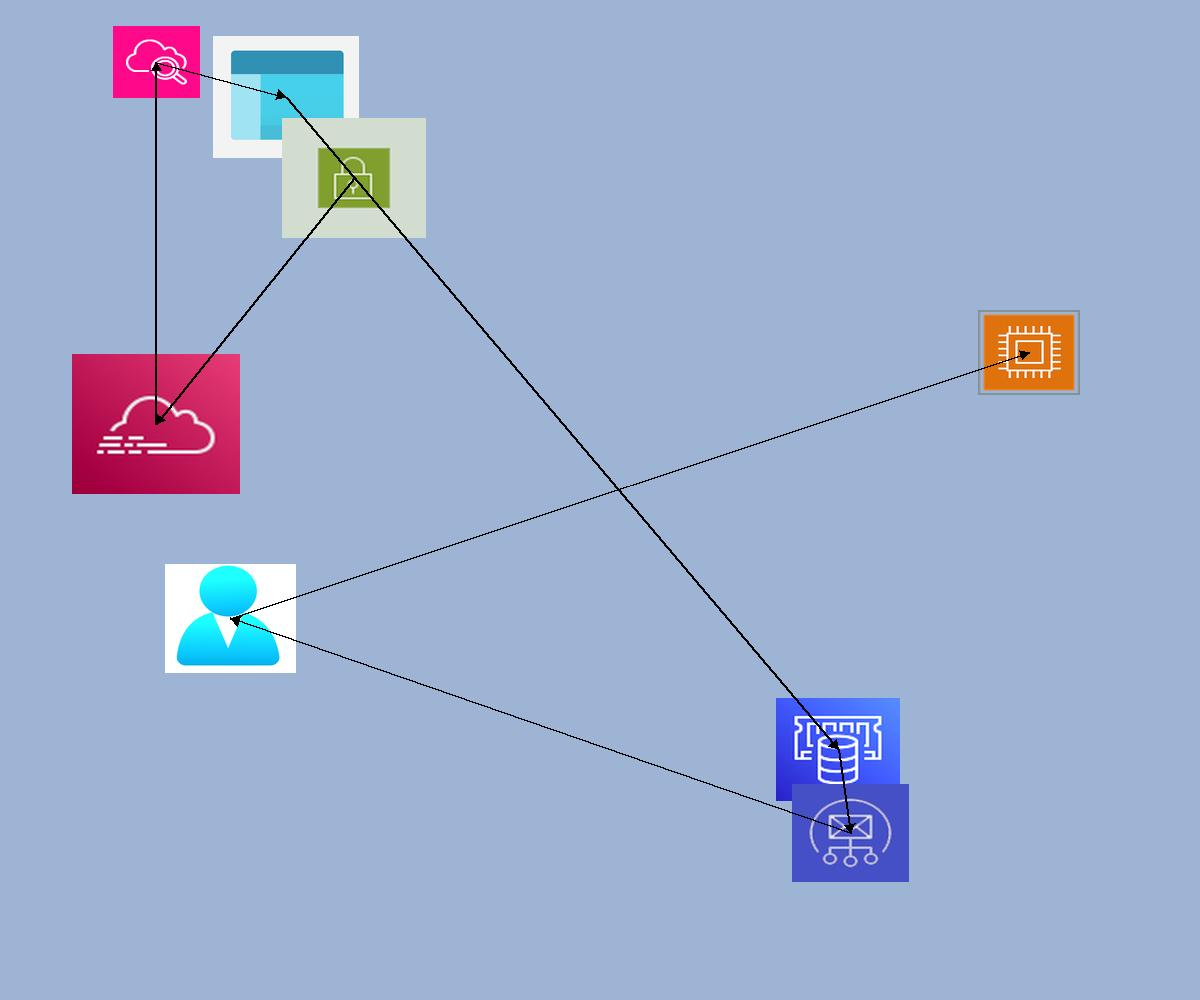AWS-Category_Compute: (978, 310, 1080, 395)
AWS-CloudTrail: (72, 354, 240, 494)
AWS-CloudWatch: (113, 26, 200, 98)
AWS-ElastiCache: (776, 698, 900, 801)
AWS-Public-subnet: (282, 118, 426, 238)
AWS-Simple-Email-Service: (792, 784, 909, 882)
Azure_management-portal: (213, 36, 359, 158)
Azure_users: (165, 564, 296, 673)
